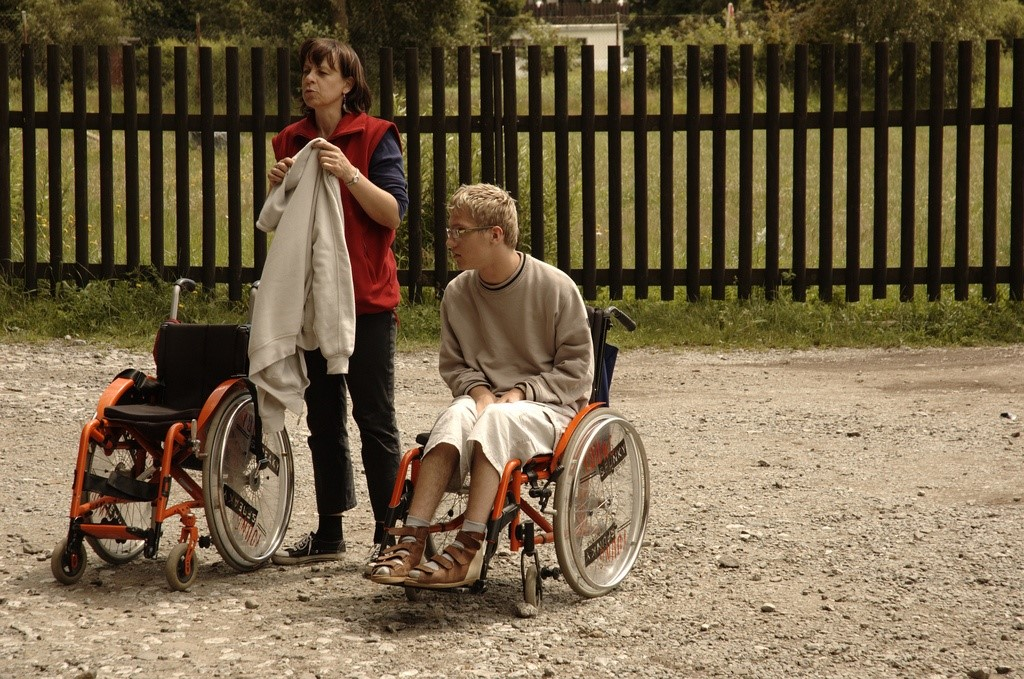face_no_mask: (443, 184, 509, 276), (295, 34, 369, 115)
